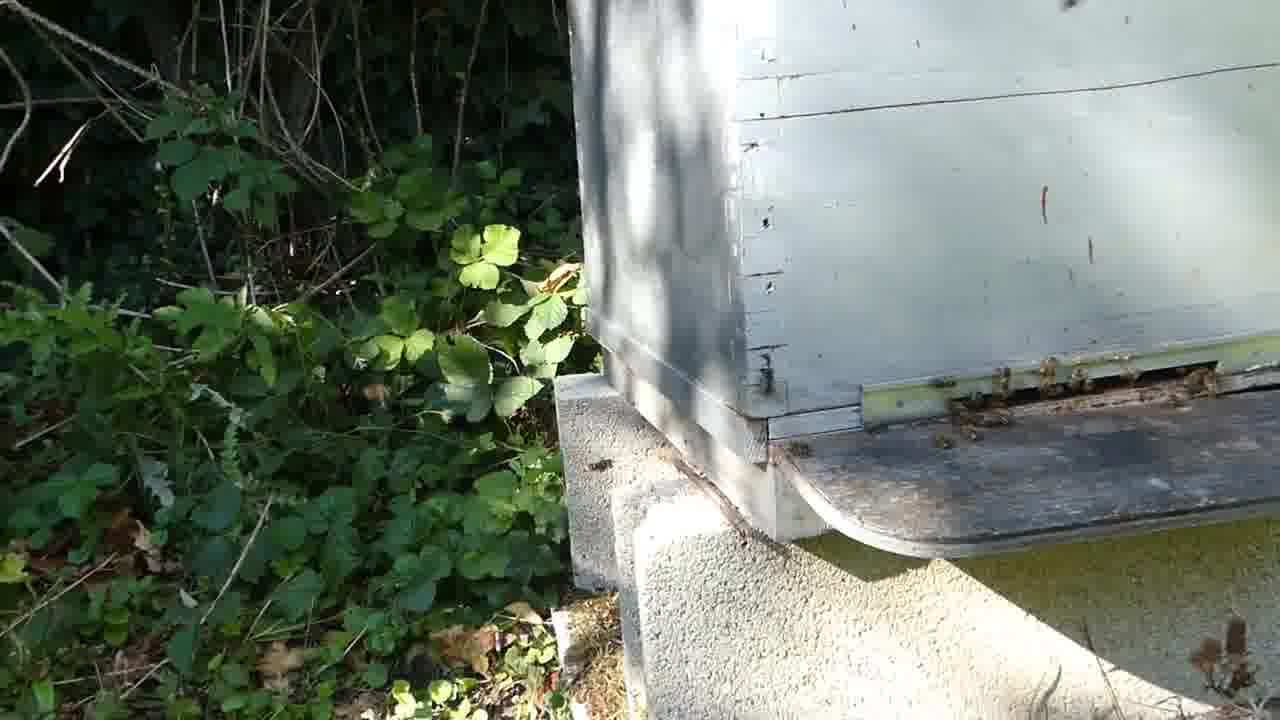bee: (1040, 363, 1058, 388), (592, 459, 617, 474)
